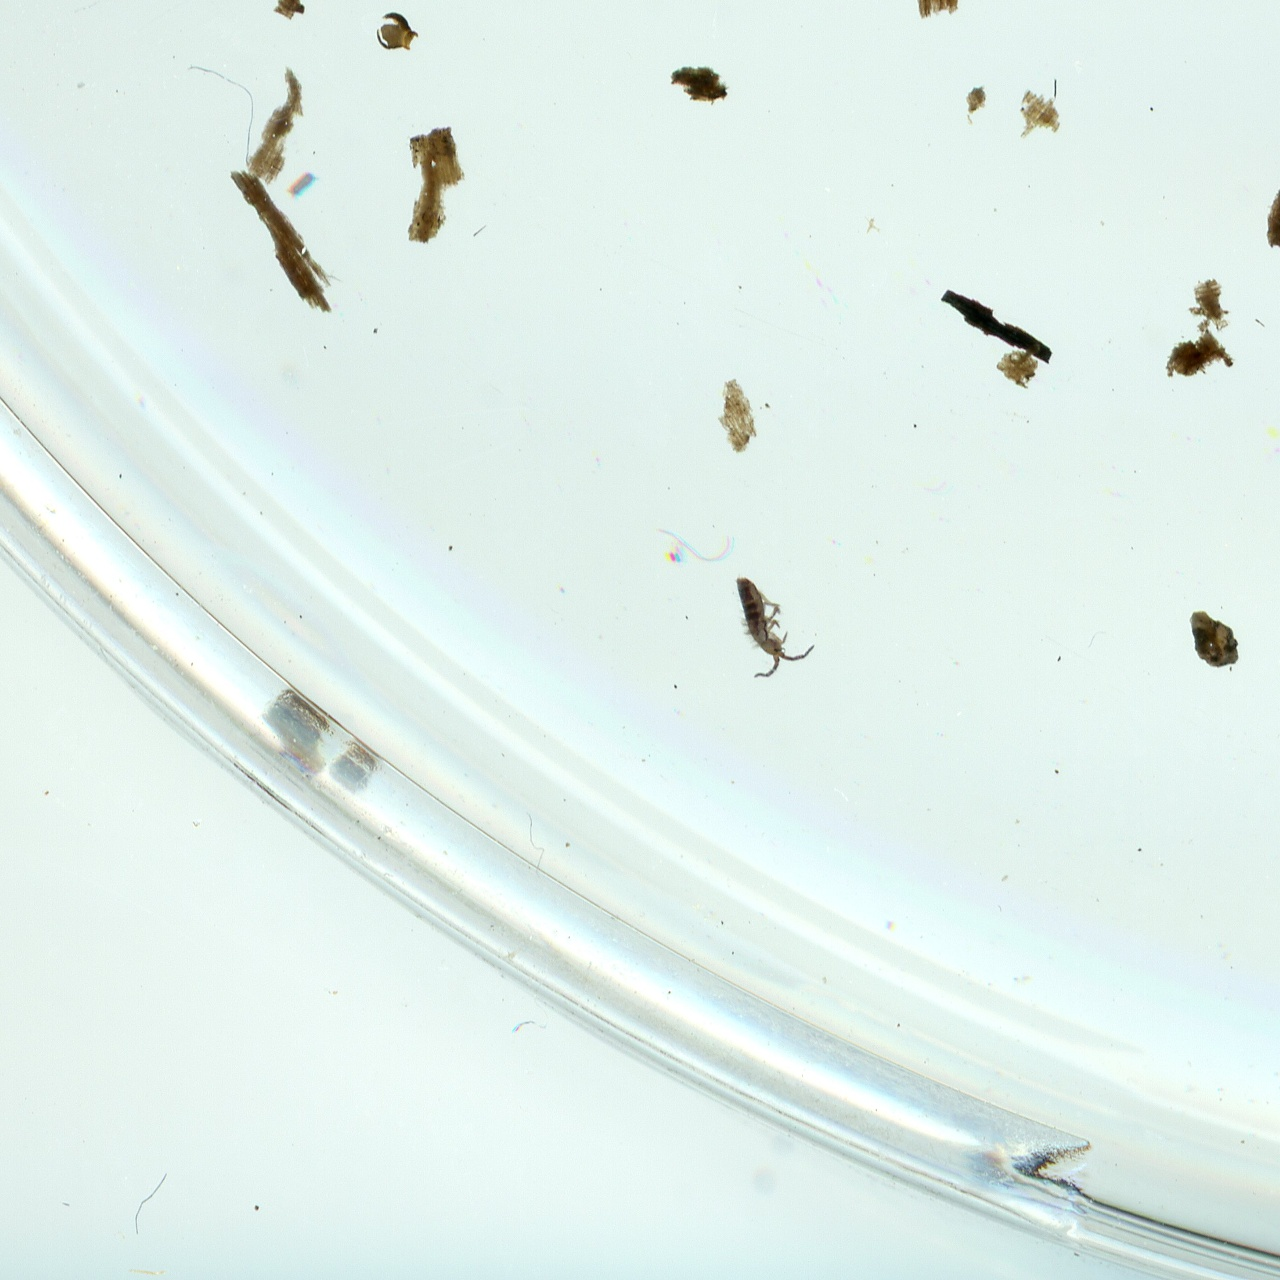arthropod: (702, 547, 830, 695), (282, 164, 321, 205)
